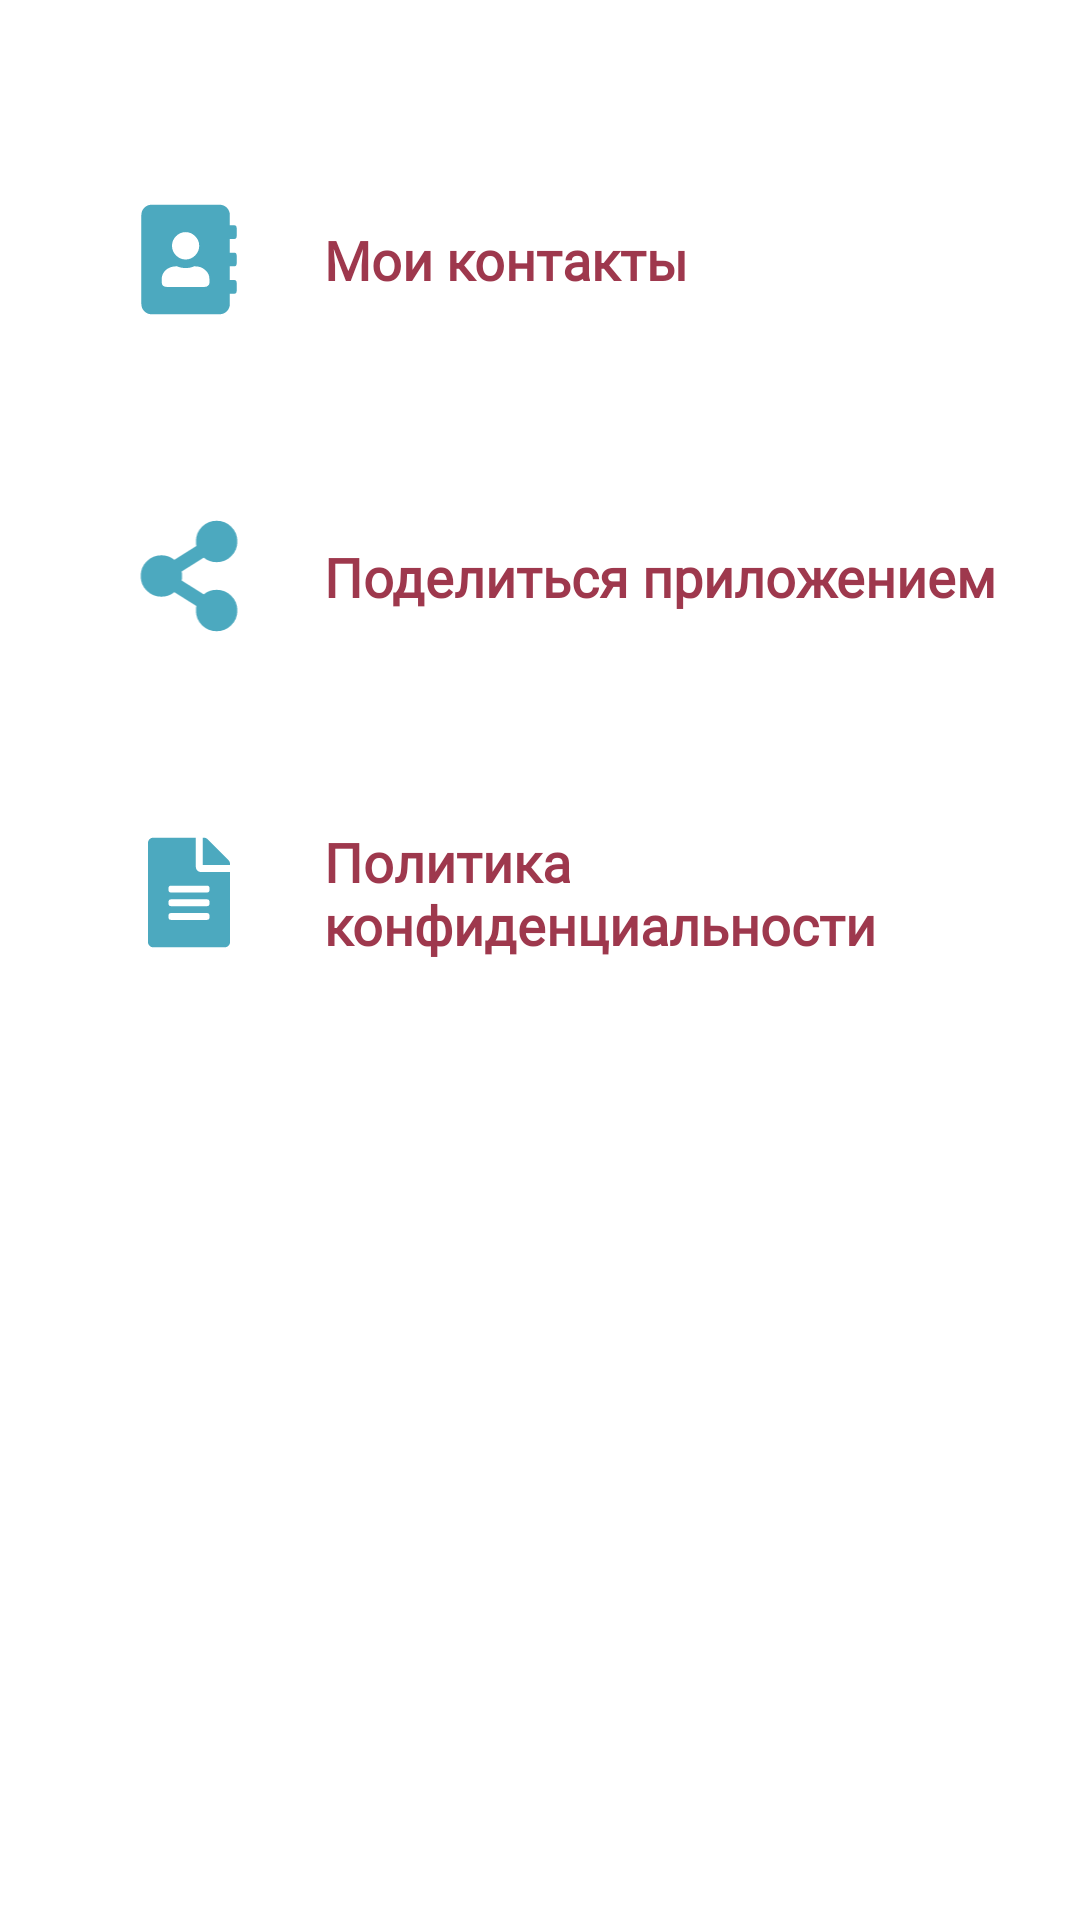

Screen size 1080px×1920px. Icon name, then its center in pixels as [x,y]:
contact: [189,259]
